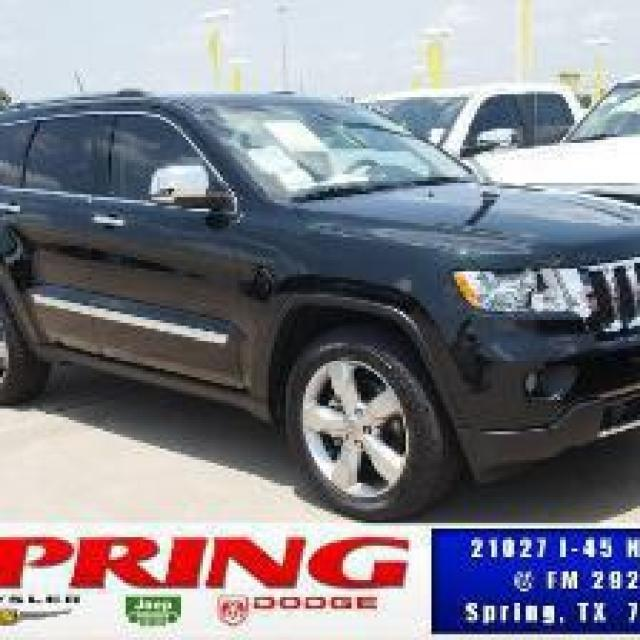damaged: (240, 252, 297, 318)
